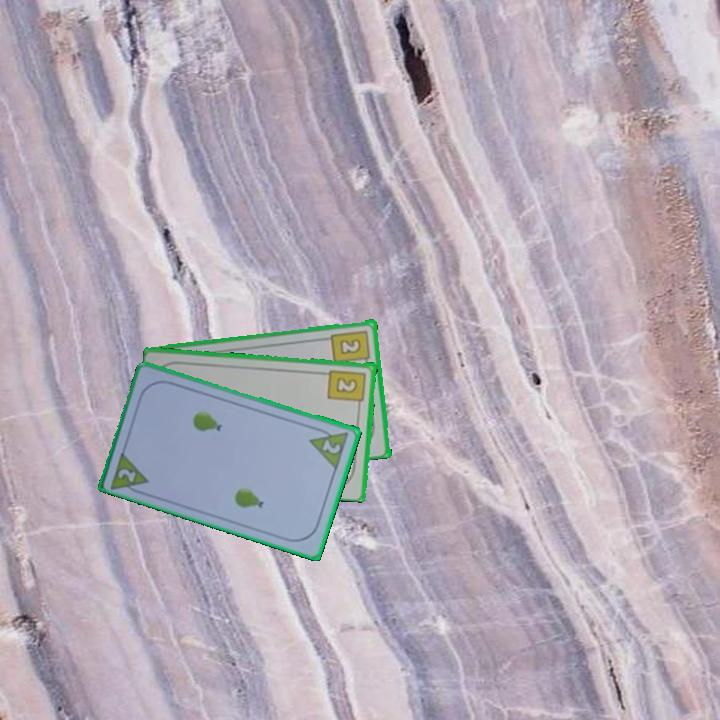2b: (325, 366, 369, 410), (328, 326, 373, 368)
2p: (306, 423, 352, 472), (114, 465, 139, 485)
